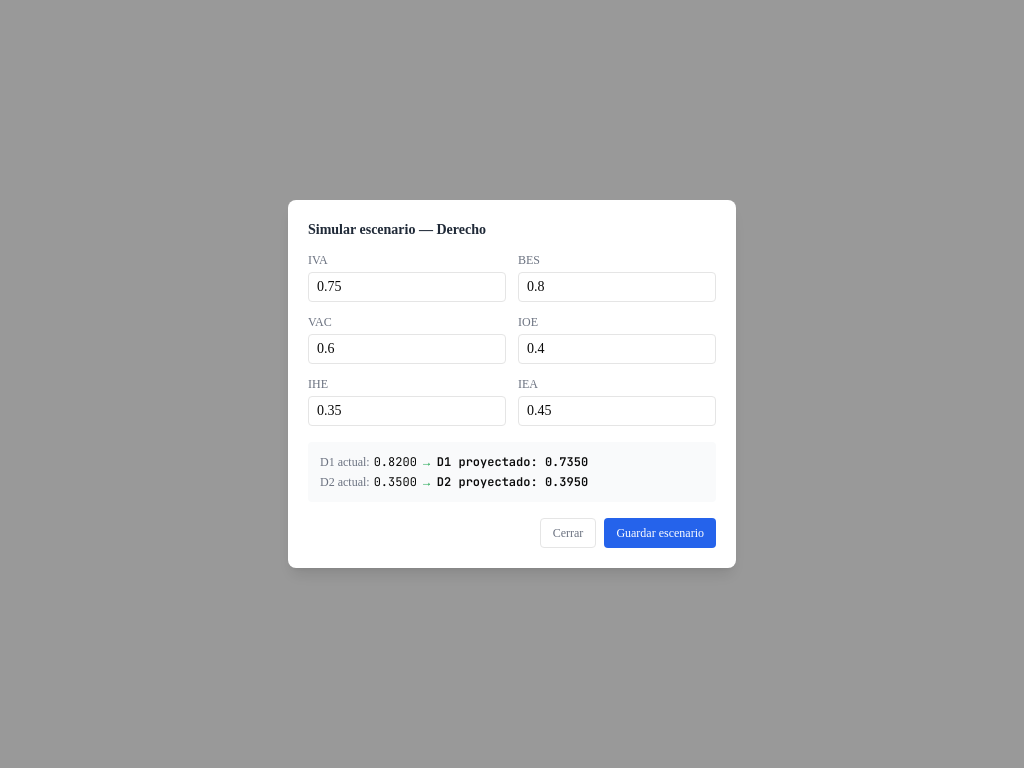
calcula preview d1/d2 en tiempo real al cambiar input
Replace the text in the number field labelled "IVA" with "1.0" at [407, 287], box [308, 272, 506, 302]
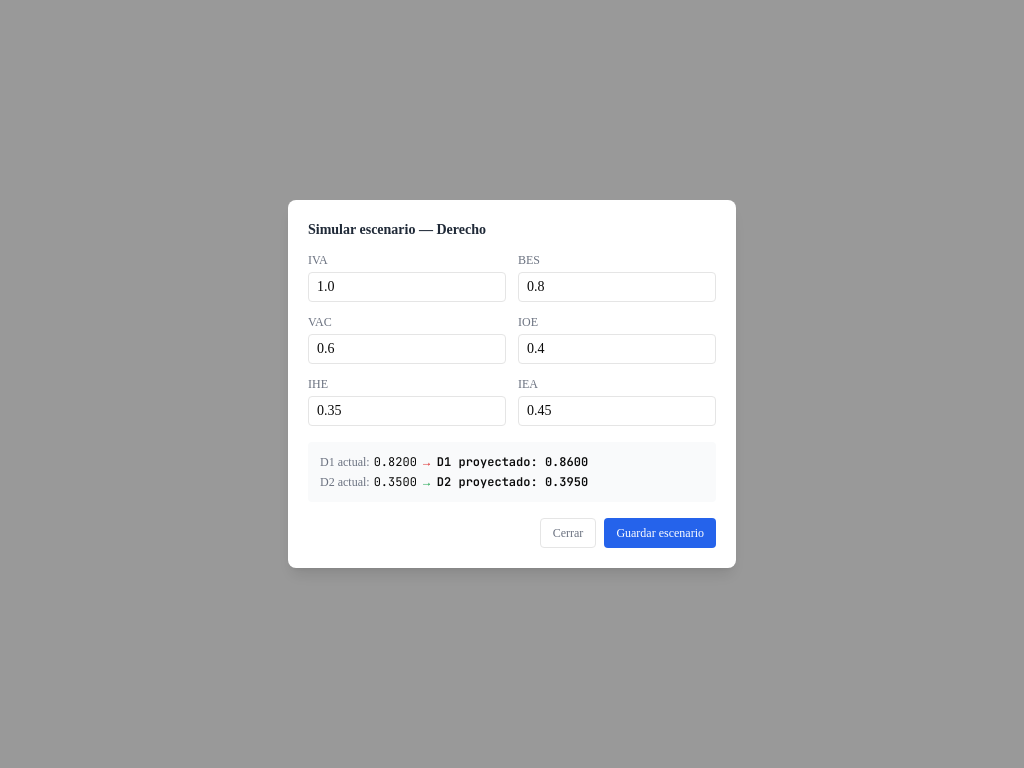
Expected: the text "D1 proyectado: 0.8600" is shown, [437, 454, 588, 470]
